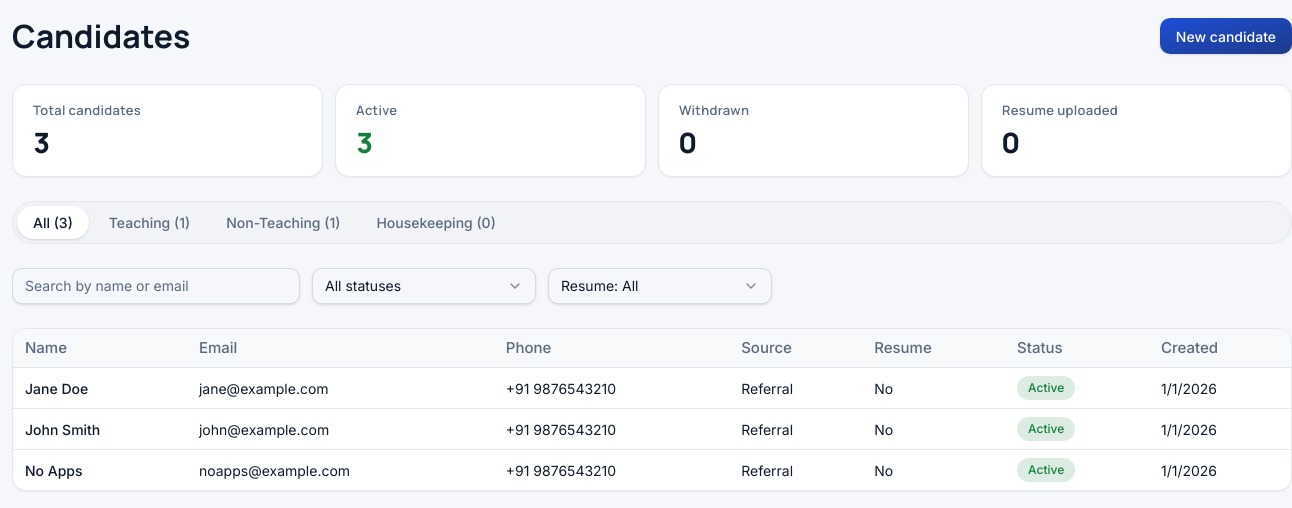
Test: CandidatesListPage › filters candidates by a CategoryTabs tab using 'has at least one application in this category' semantics
expect the link "Jane Doe" is shown: met, box x1=25 y1=380 x2=88 y2=396
expect the link "John Smith" is shown: met, box x1=25 y1=420 x2=100 y2=438
Click the tab "Teaching (1)". click: {"x": 150, "y": 222}
box: x1=93 y1=206 x2=206 y2=238
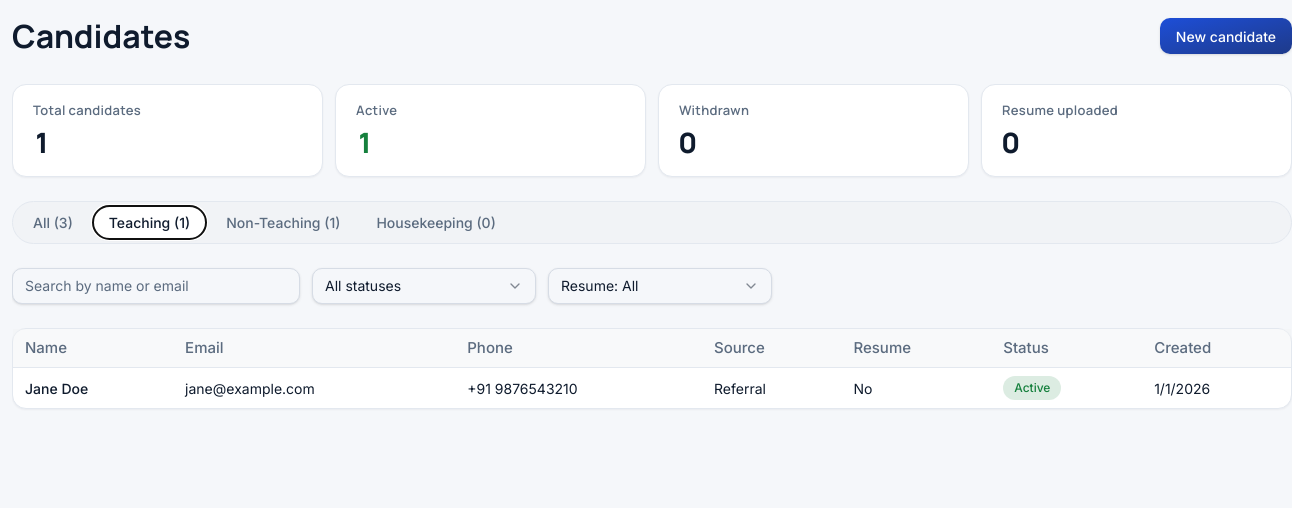
expect the link "Jane Doe" is shown: met, box x1=25 y1=380 x2=88 y2=396
expect the link "John Smith" is gone: met
expect the link "No Apps" is gone: met
